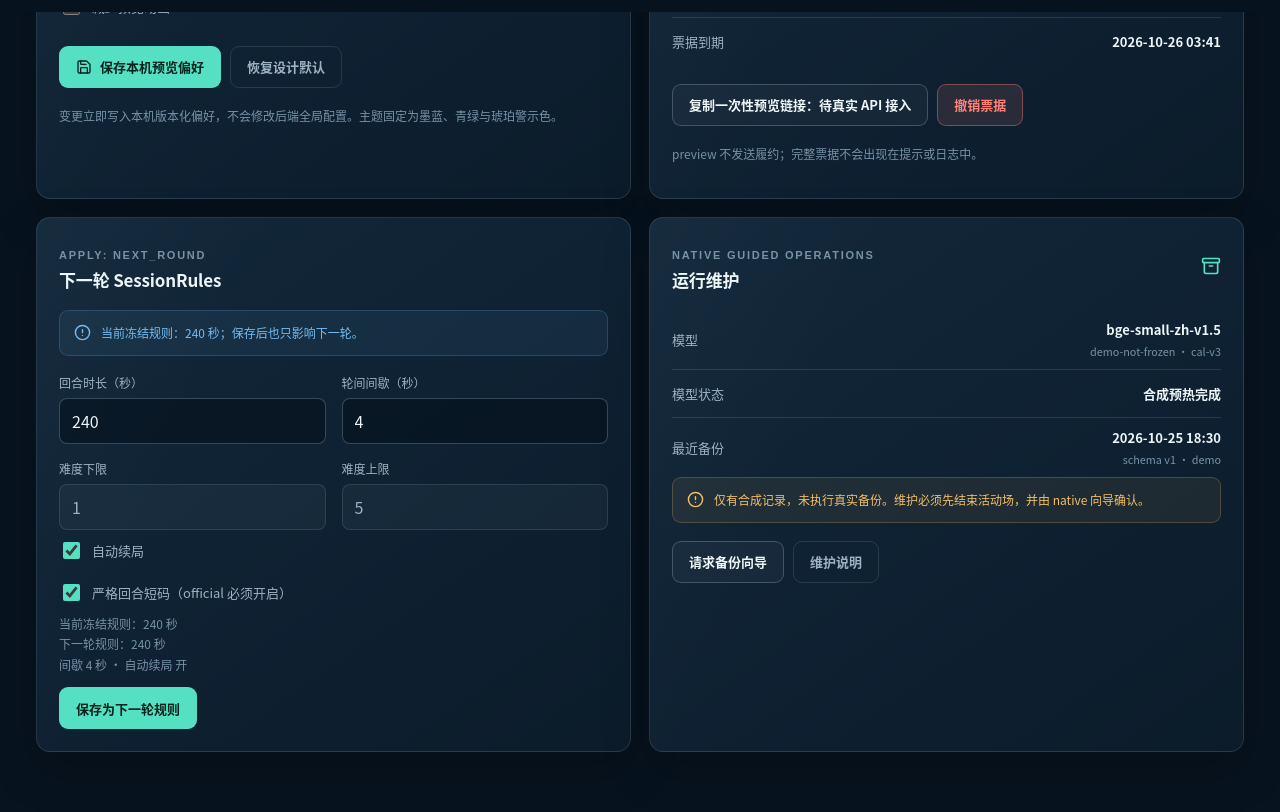
Test: 设置与展示预览 › 复制能力明确待接入且不伪报已复制
This screenshot has width=1280, height=812.
(page scrolled)
Click the button "复制一次性预览链接：待真实 API 接入": click(800, 105) x1=672 y1=84 x2=928 y2=126
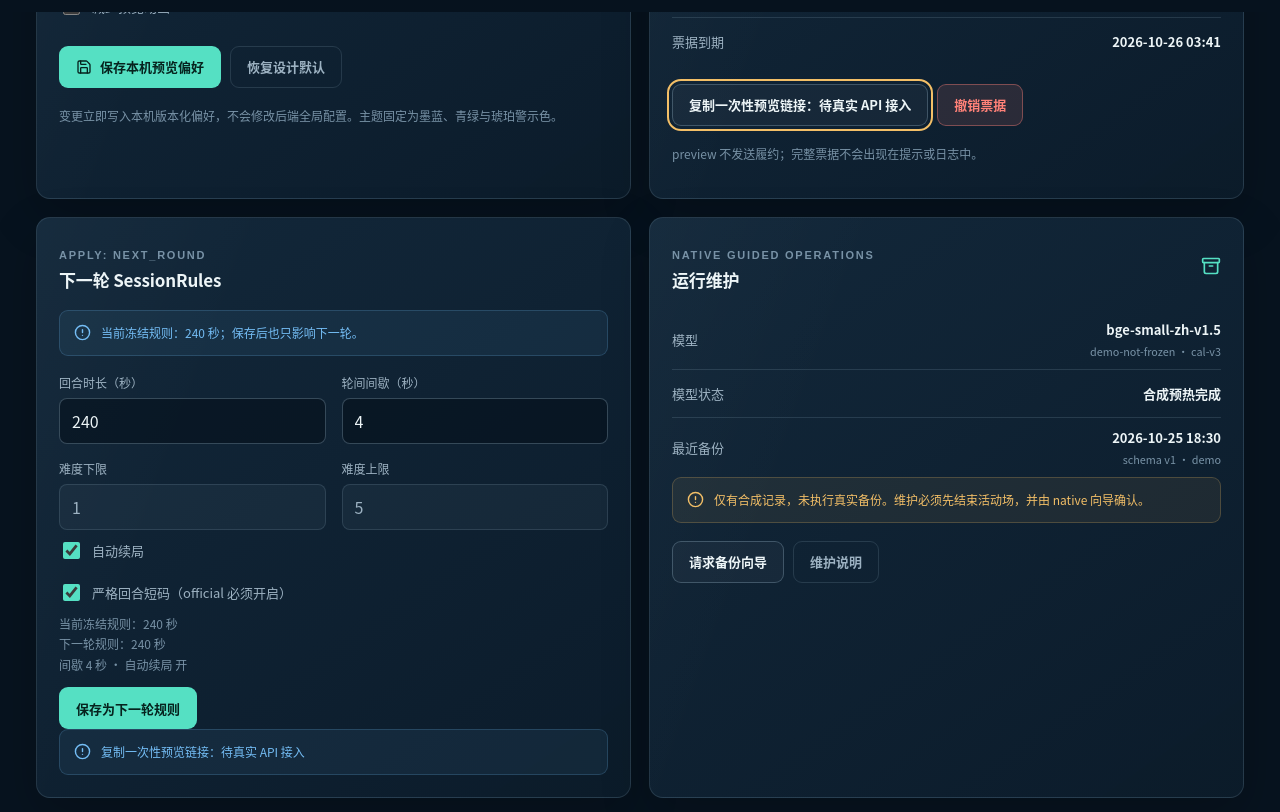
Expected: the text "复制一次性预览链接：待真实 API 接入" is shown, x1=101 y1=742 x2=305 y2=762
